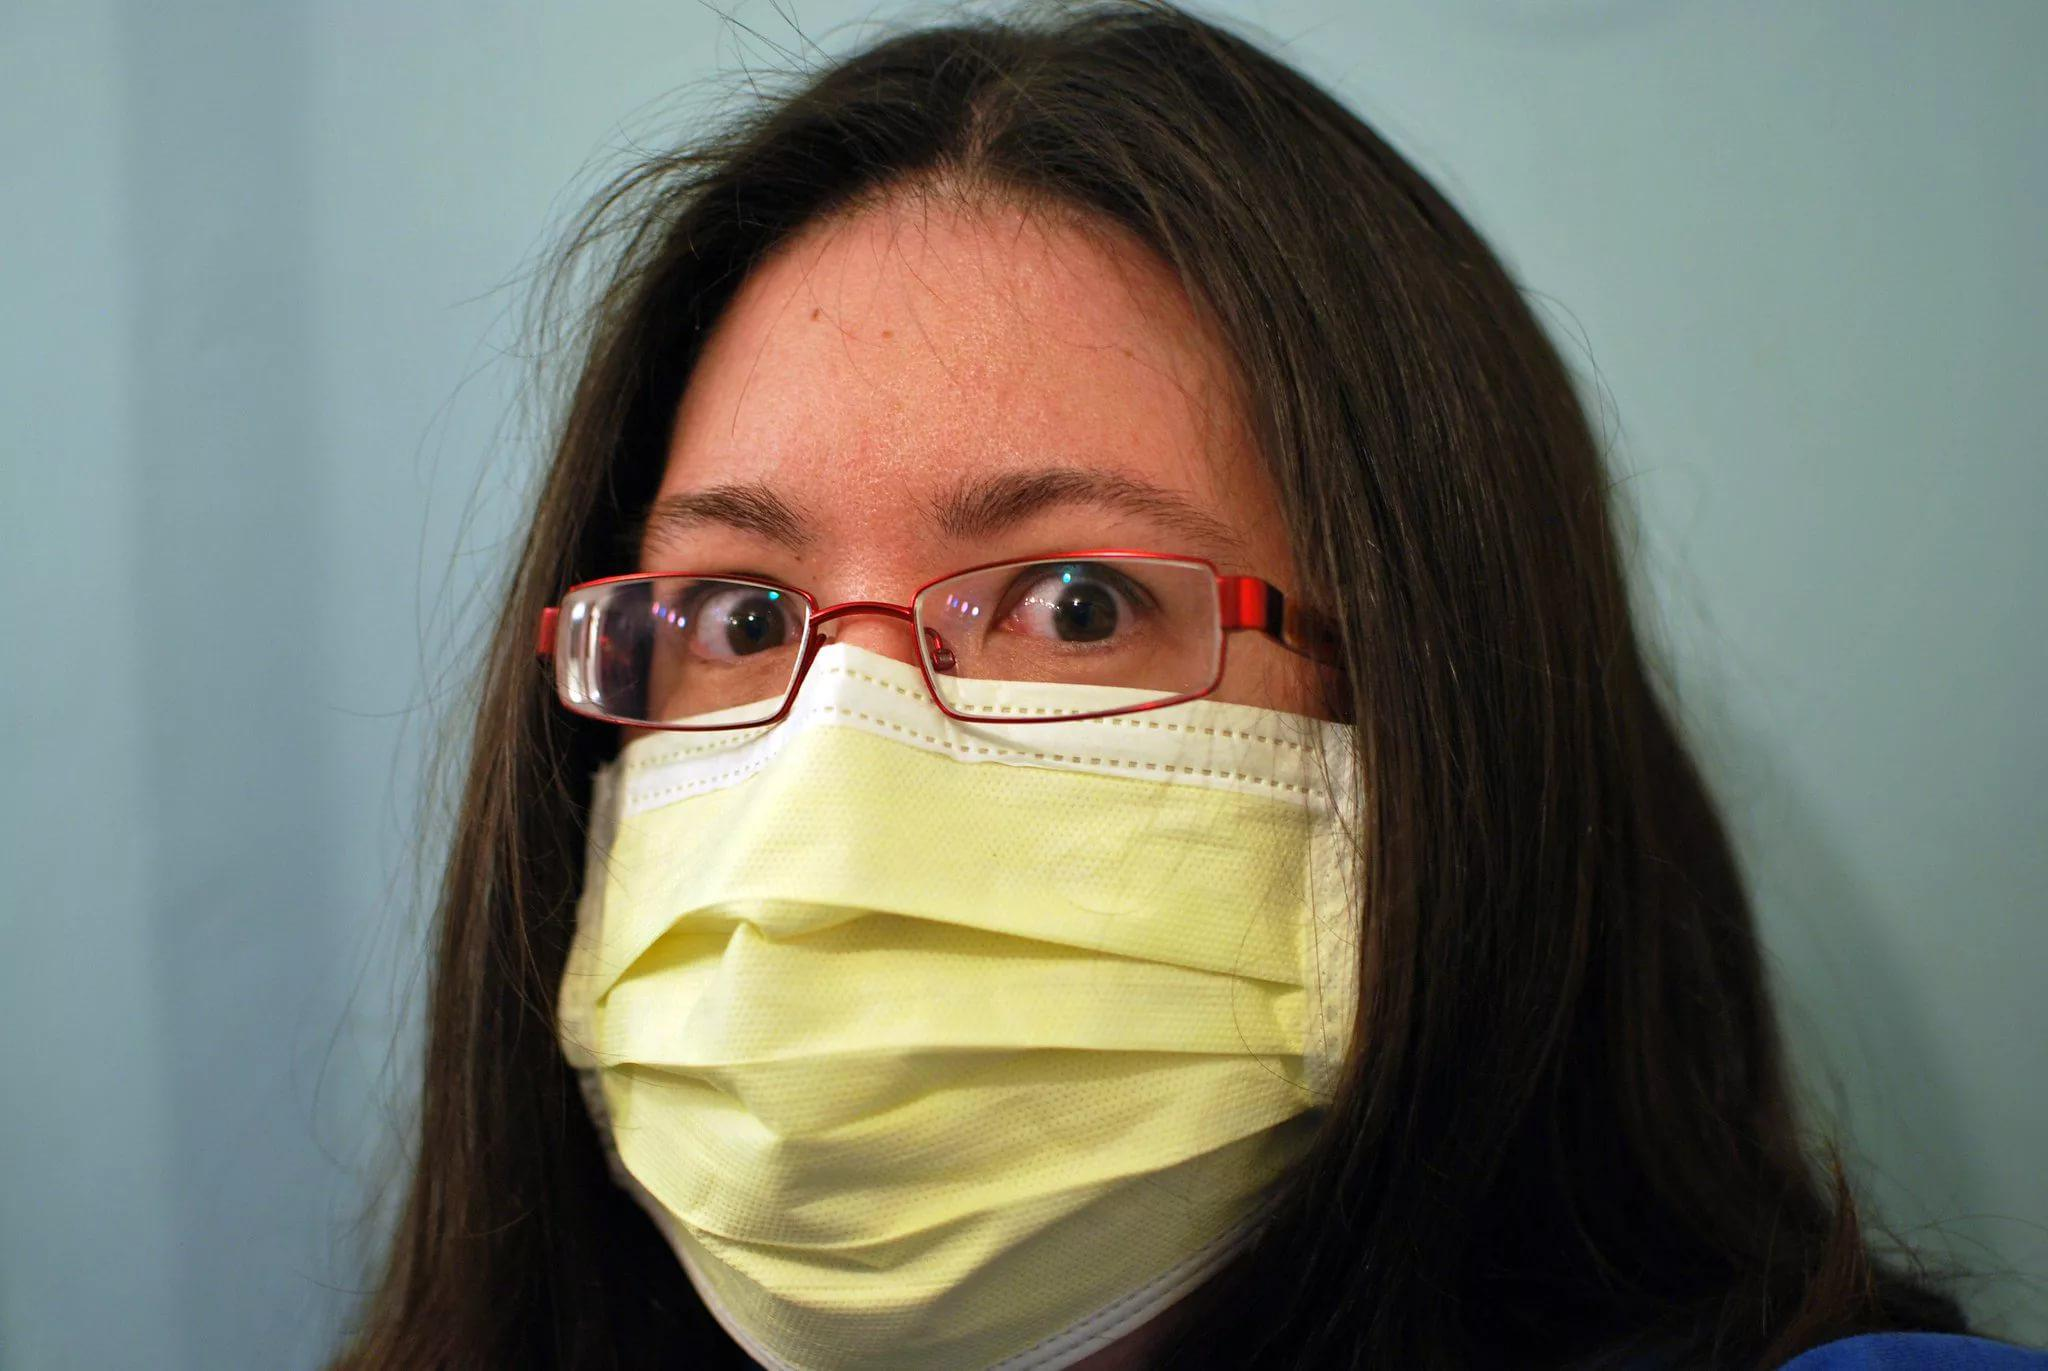mask: (541, 262, 1366, 1371)
